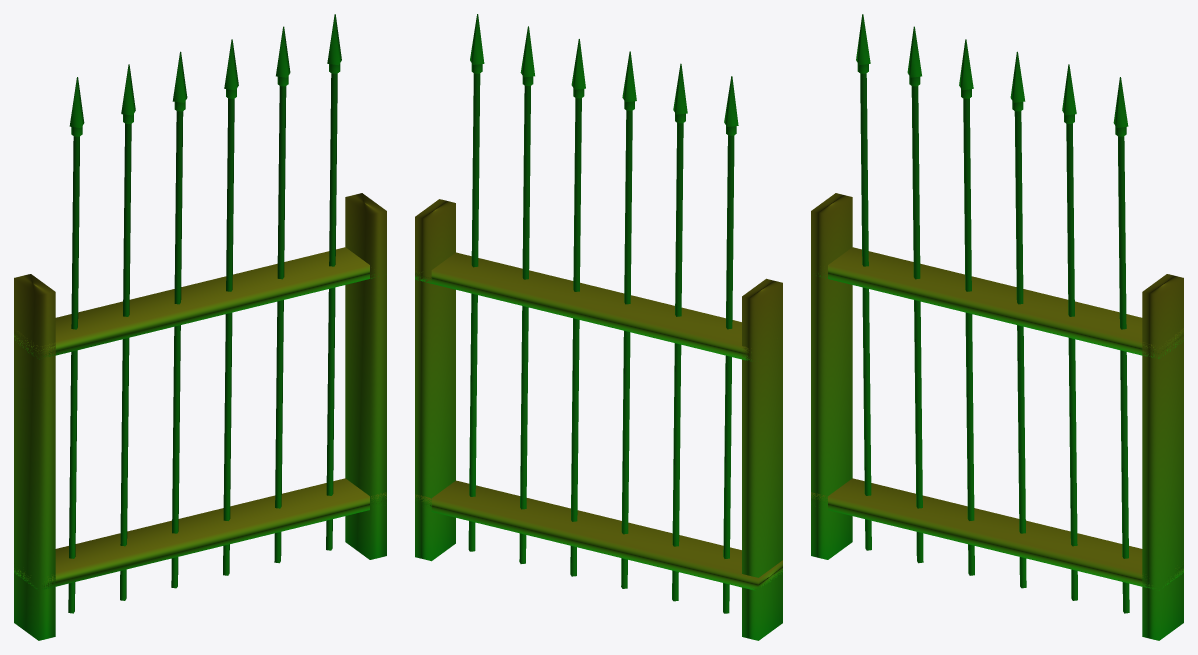
The model's file is stillguard_rack.glb.
The picture shows the model from 3 angles, left to right: view 1: azimuth 30°, elevation 25°; view 2: azimuth 150°, elevation 25°; view 3: azimuth 330°, elevation 25°; orthographic projection.
Parts seen in each view (by area): view 1: stillguard_rack; view 2: stillguard_rack; view 3: stillguard_rack.
Part boxes in pixels (bbox=[...]): stillguard_rack: bbox=[14, 14, 386, 640]; stillguard_rack: bbox=[415, 14, 782, 640]; stillguard_rack: bbox=[811, 14, 1183, 640].
Size of what is drawn, in the model's own units: 1.89 by 2.85 by 0.2315.
